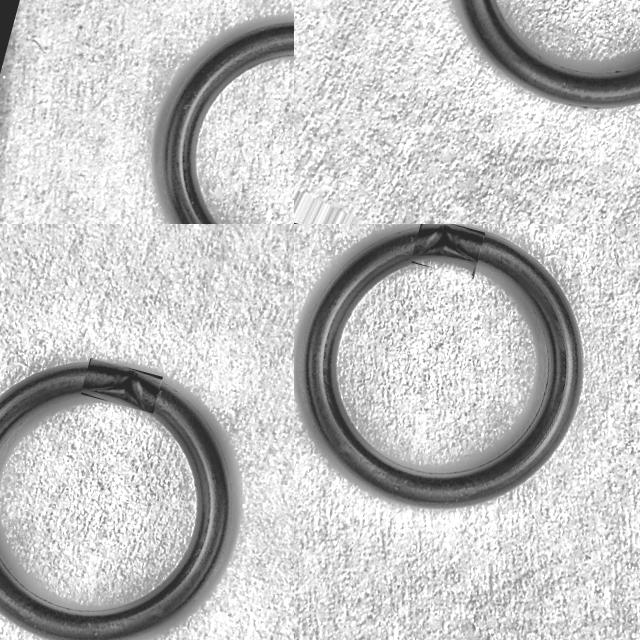侧边压痕: (579, 102, 601, 109)
切割缺陷: (83, 369, 153, 412), (412, 224, 475, 266)
裂纹: (612, 67, 624, 74)
